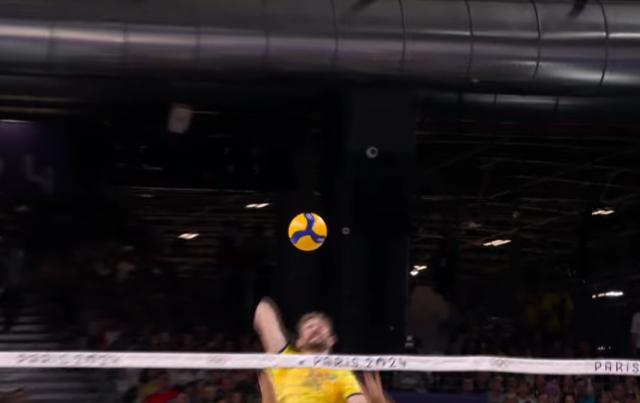bola: (288, 213, 326, 251)
